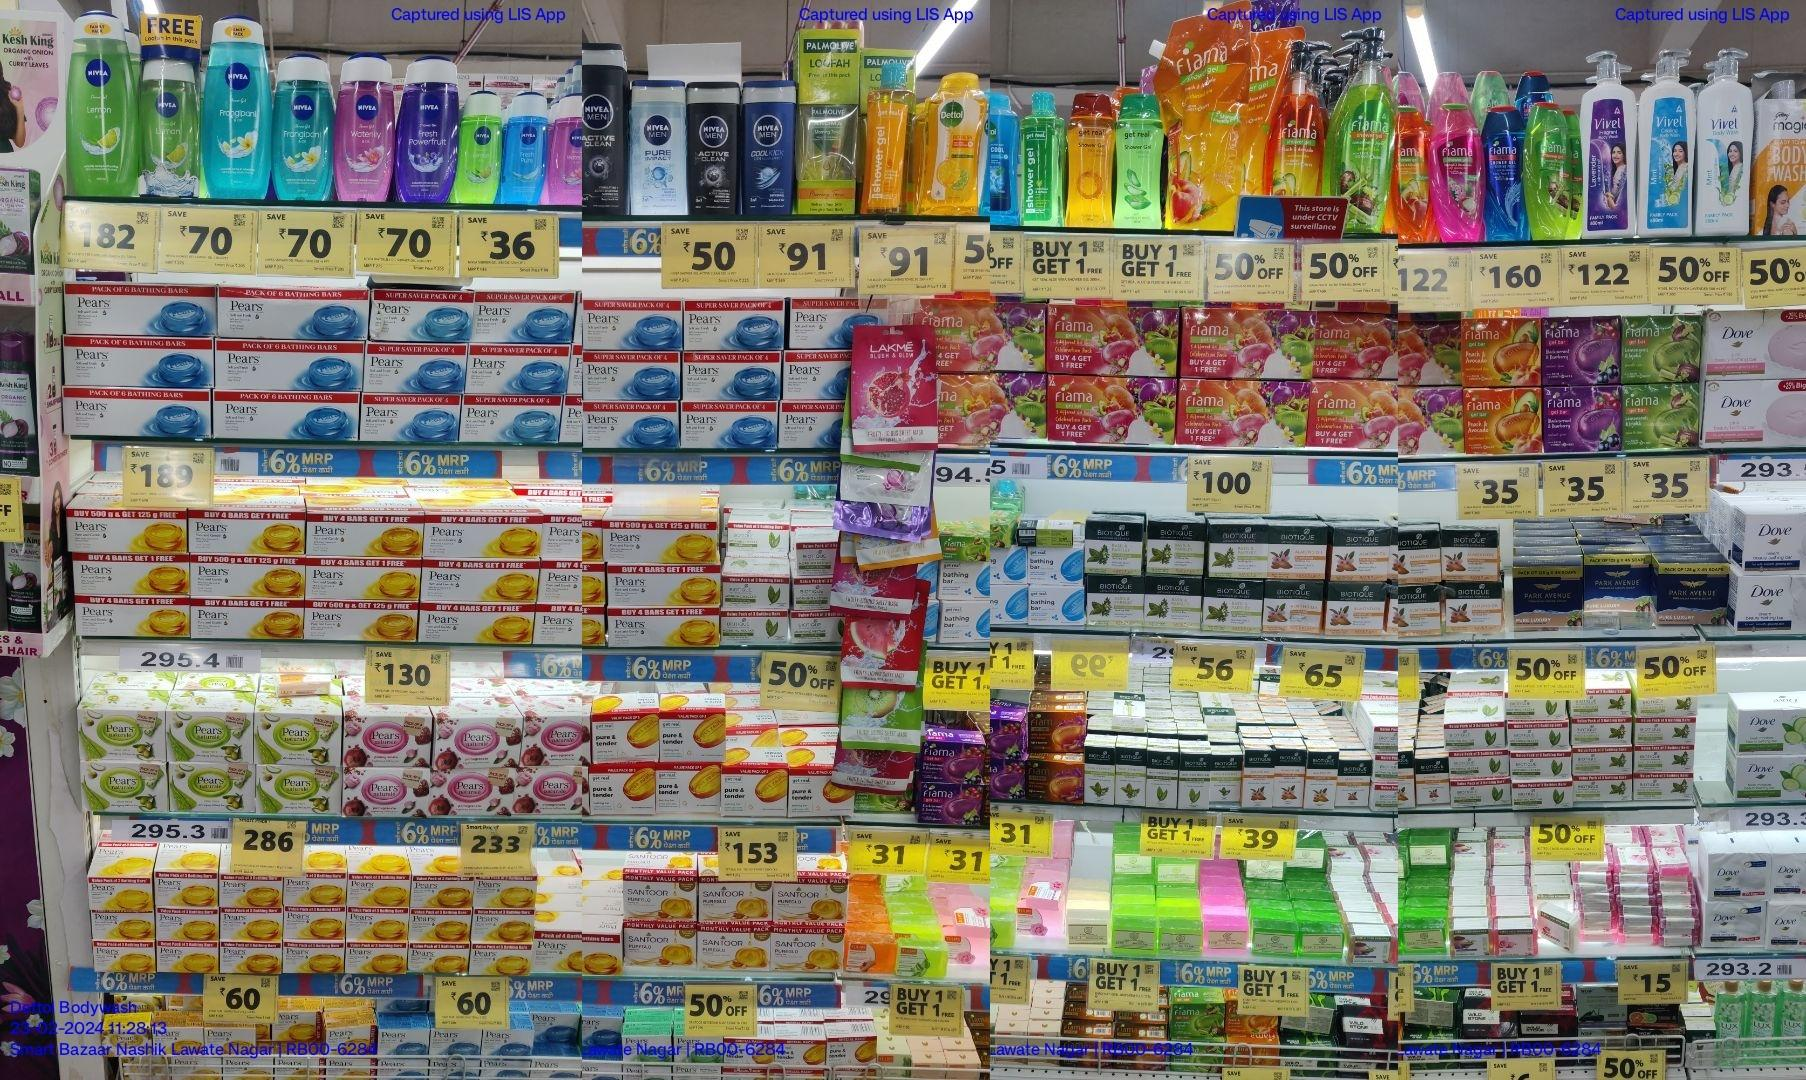Dettol_Bodywash_Refresh: (922, 73, 979, 220)
Fiama_Shower_Gel_Lemongrass_and_Jojoba_250ML: (1526, 99, 1568, 242)
Fiama_Shower_Gel_Patchouli_and_Macadamia_250ML: (1431, 100, 1483, 243)
Get_Real_Shower_Gel_Moisturising_Glycerin_300ML: (1066, 89, 1116, 229)
Nivea_Shower_Gel_Frangipani_and_Oil_250ML: (201, 6, 271, 199), (274, 50, 335, 201)
Nivea_Shower_Gel_Lemon_and_Oil_250ML: (67, 10, 140, 198), (144, 39, 199, 202)
Nivea_Shower_Gel_Waterlily_and_Oil_250ML: (335, 49, 393, 204), (392, 58, 454, 202)
